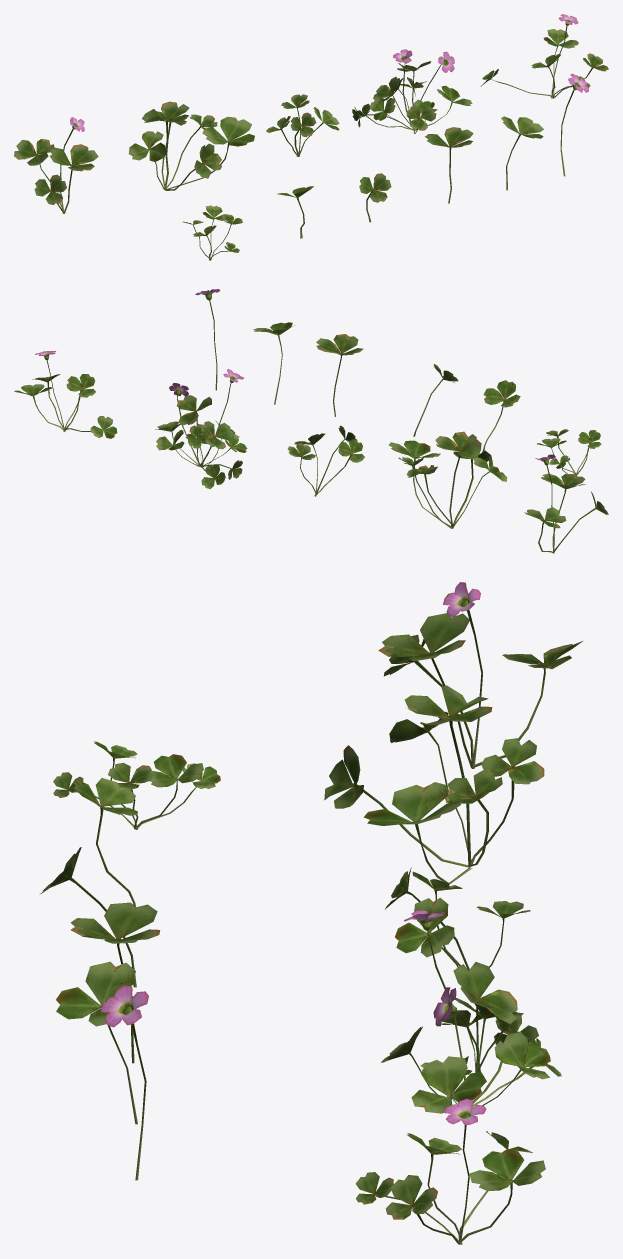
Rendered from shrub_sorrel_01.glb.
3 views of the same model, one above another, from view 1: azimuth 30°, elevation 25°; view 2: azimuth 150°, elevation 25°; view 3: azimuth 270°, elevation 25° (orthographic). The views are drawn at different scales.
Visible parts, largest first — view 1: shrub_sorrel_01_b, shrub_sorrel_01_d, shrub_sorrel_01_a, shrub_sorrel_01_e, shrub_sorrel_01_c, shrub_sorrel_01_f, shrub_sorrel_01_i, shrub_sorrel_01_h, shrub_sorrel_01_j, shrub_sorrel_01_k; view 2: shrub_sorrel_01_d, shrub_sorrel_01_b, shrub_sorrel_01_e, shrub_sorrel_01_a, shrub_sorrel_01_c, shrub_sorrel_01_f, shrub_sorrel_01_i, shrub_sorrel_01_g, shrub_sorrel_01_j; view 3: shrub_sorrel_01_b, shrub_sorrel_01_d, shrub_sorrel_01_e, shrub_sorrel_01_a, shrub_sorrel_01_f, shrub_sorrel_01_c, shrub_sorrel_01_j, shrub_sorrel_01_i, shrub_sorrel_01_k, shrub_sorrel_01_g.
Boxes of the visible parts, <box> form: shrub_sorrel_01_b: <box>128,101,254,190</box>; shrub_sorrel_01_d: <box>352,49,472,133</box>; shrub_sorrel_01_a: <box>14,117,98,213</box>; shrub_sorrel_01_e: <box>480,14,608,98</box>; shrub_sorrel_01_c: <box>266,94,339,156</box>; shrub_sorrel_01_f: <box>182,205,242,260</box>; shrub_sorrel_01_i: <box>425,127,473,203</box>; shrub_sorrel_01_h: <box>359,173,391,222</box>; shrub_sorrel_01_j: <box>501,116,543,190</box>; shrub_sorrel_01_k: <box>560,73,588,176</box>; shrub_sorrel_01_d: <box>155,369,247,489</box>; shrub_sorrel_01_b: <box>388,431,507,528</box>; shrub_sorrel_01_e: <box>14,351,117,438</box>; shrub_sorrel_01_a: <box>524,454,608,553</box>; shrub_sorrel_01_c: <box>287,425,364,496</box>; shrub_sorrel_01_f: <box>537,429,601,475</box>; shrub_sorrel_01_i: <box>316,334,363,416</box>; shrub_sorrel_01_g: <box>482,380,520,451</box>; shrub_sorrel_01_j: <box>253,322,294,404</box>; shrub_sorrel_01_b: <box>324,685,544,884</box>; shrub_sorrel_01_d: <box>381,910,561,1113</box>; shrub_sorrel_01_e: <box>355,1098,545,1244</box>; shrub_sorrel_01_a: <box>378,582,582,768</box>; shrub_sorrel_01_f: <box>53,741,220,829</box>; shrub_sorrel_01_c: <box>385,867,530,970</box>; shrub_sorrel_01_j: <box>56,961,137,1124</box>; shrub_sorrel_01_i: <box>70,902,160,1063</box>; shrub_sorrel_01_k: <box>100,985,148,1180</box>; shrub_sorrel_01_g: <box>73,778,137,906</box>.
Bounding box in the file's own units: 0.3521 × 0.058 × 0.1464.
1 material, 1 textured.
